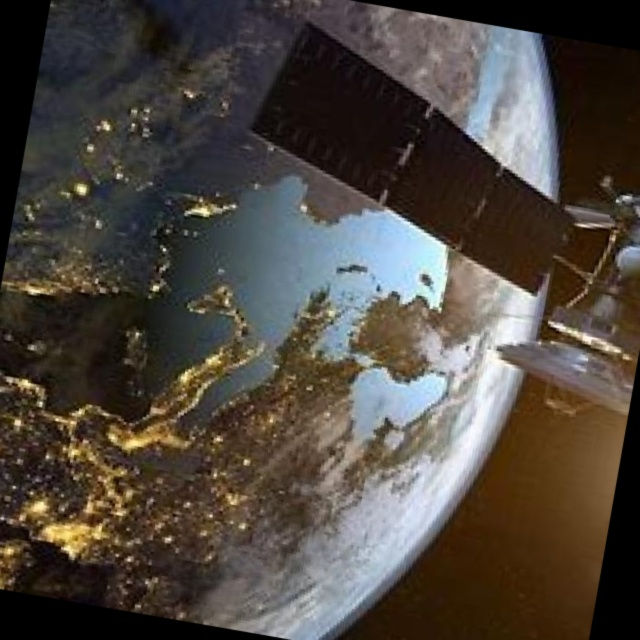satellite: (166, 4, 640, 435)
